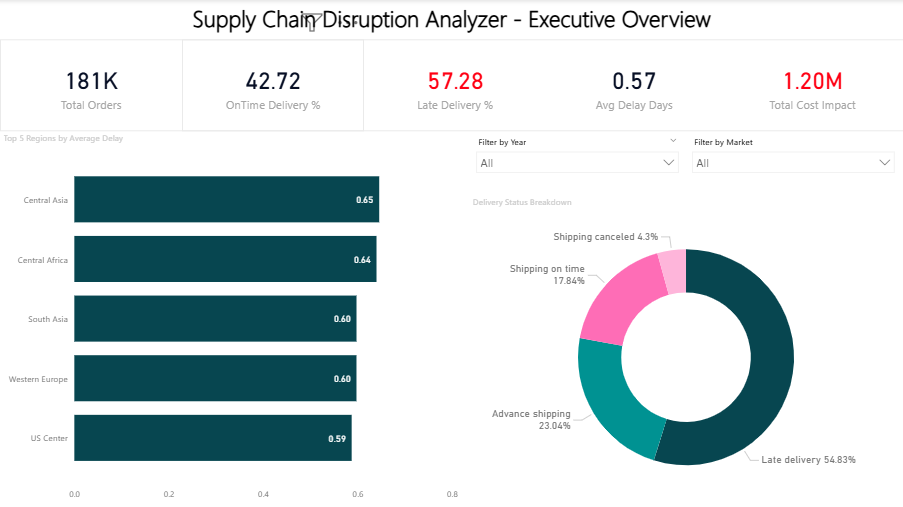

Layout of this report page (visuals, bound fields, positions):
{"tool":"powerbi","page":{"name":"Executive Summary","canvas":[1280,720],"ordinal":0},"visuals":[{"type":"group","id":"g1","title":"Group 1","box":[0,57.1,1280.8,131],"z":0},{"type":"card","fields":{"Values":["SupplyChainCleaned.Total Orders"]},"box":[0,57.1,257.9,131],"z":0,"group":"g1"},{"type":"card","fields":{"Values":["SupplyChainCleaned.OnTime Delivery %"]},"box":[257.9,57.1,257.9,131],"z":1000,"group":"g1"},{"type":"donutChart","title":"Delivery Status Breakdown","fields":{"Y":["SupplyChainCleaned.Total Orders"],"Category":["SupplyChainCleaned.Delivery Status"]},"box":[0,346.5,641.4,374.2],"z":1000},{"type":"card","fields":{"Values":["SupplyChainCleaned.Total Cost Impact"]},"box":[1023,57.1,257.9,131],"z":2000,"group":"g1"},{"type":"slicer","fields":{"Values":["SupplyChainCleaned.Market"]},"box":[0,267.3,639.6,79.3],"z":2000},{"type":"card","fields":{"Values":["SupplyChainCleaned.Late Delivery %"]},"box":[515.7,57.1,257.9,131],"z":3000,"group":"g1"},{"type":"clusteredBarChart","title":"Top 5 Regions by Average Delay","fields":{"Category":["SupplyChainCleaned.Order Region"],"Y":["SupplyChainCleaned.Avg Delay Days"]},"box":[639.6,188,639.6,532.7],"z":3000},{"type":"card","fields":{"Values":["SupplyChainCleaned.Avg Delay Days"]},"box":[773.6,57.1,249.4,131],"z":4000,"group":"g1"},{"type":"slicer","fields":{"Values":["SupplyChainCleaned.Formatted_order date.Variation.Date Hierarchy.Year"]},"box":[0,188,641.4,79.3],"z":4000},{"type":"textbox","box":[0,0,1280.8,57.1],"z":5000}]}

Visuals, with their boxes in screenshot pixels (x1, y1, x2, y2), scaled from the page's 1280x720 canvas onto the 903x507 screenshot:
"Group 1" group: box(0, 40, 902, 132)
card - SupplyChainCleaned.Total Orders: box(0, 40, 182, 132)
card - SupplyChainCleaned.OnTime Delivery %: box(182, 40, 364, 132)
"Delivery Status Breakdown" donutChart: box(0, 244, 452, 506)
card - SupplyChainCleaned.Total Cost Impact: box(722, 40, 902, 132)
slicer - SupplyChainCleaned.Market: box(0, 188, 451, 244)
card - SupplyChainCleaned.Late Delivery %: box(364, 40, 546, 132)
"Top 5 Regions by Average Delay" clusteredBarChart: box(451, 132, 902, 506)
card - SupplyChainCleaned.Avg Delay Days: box(546, 40, 722, 132)
slicer - SupplyChainCleaned.Formatted_order date.Variation.Date Hierarchy.Year: box(0, 132, 452, 188)
textbox: box(0, 0, 902, 40)
